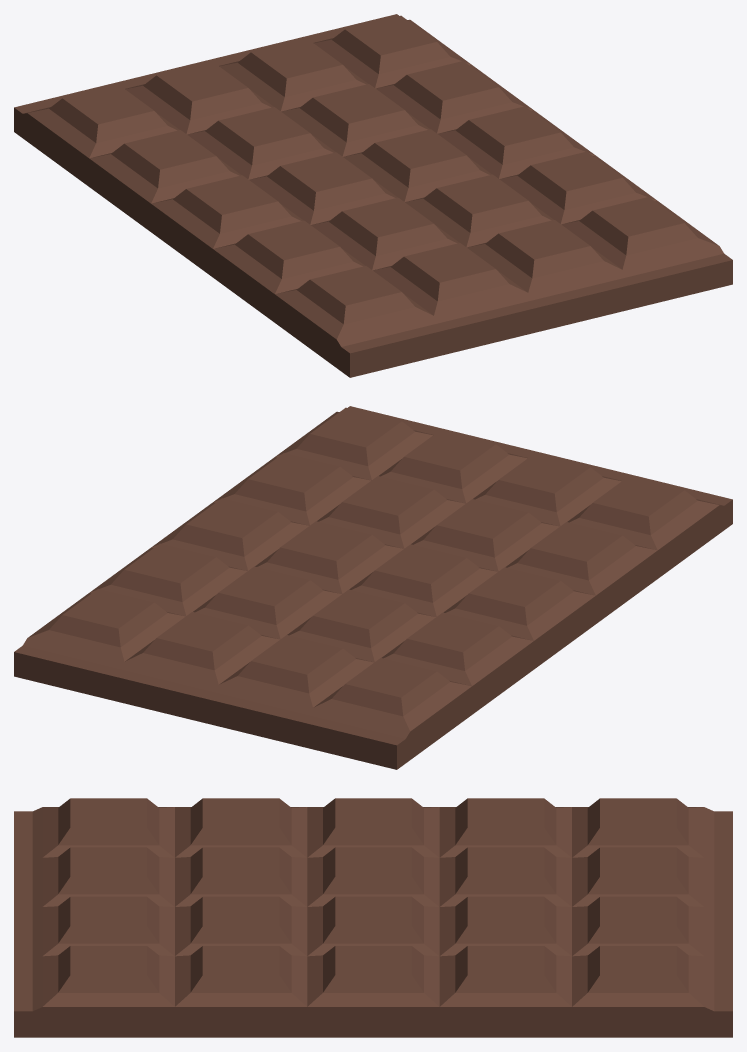
Rendered from ChocolateBar.glb.
3 views of the same model, one above another, from view 1: azimuth 30°, elevation 25°; view 2: azimuth 150°, elevation 25°; view 3: azimuth 270°, elevation 25° (orthographic). The views are drawn at different scales.
Parts seen in each view (by area): view 1: ChocolateBar; view 2: ChocolateBar; view 3: ChocolateBar.
Part boxes in pixels (x1,y1,x2,y2): ChocolateBar: [14, 14, 732, 377]; ChocolateBar: [14, 406, 732, 769]; ChocolateBar: [14, 798, 732, 1037].
Bounding box in the file's own units: 0.5752 × 0.0683 × 0.8742.
